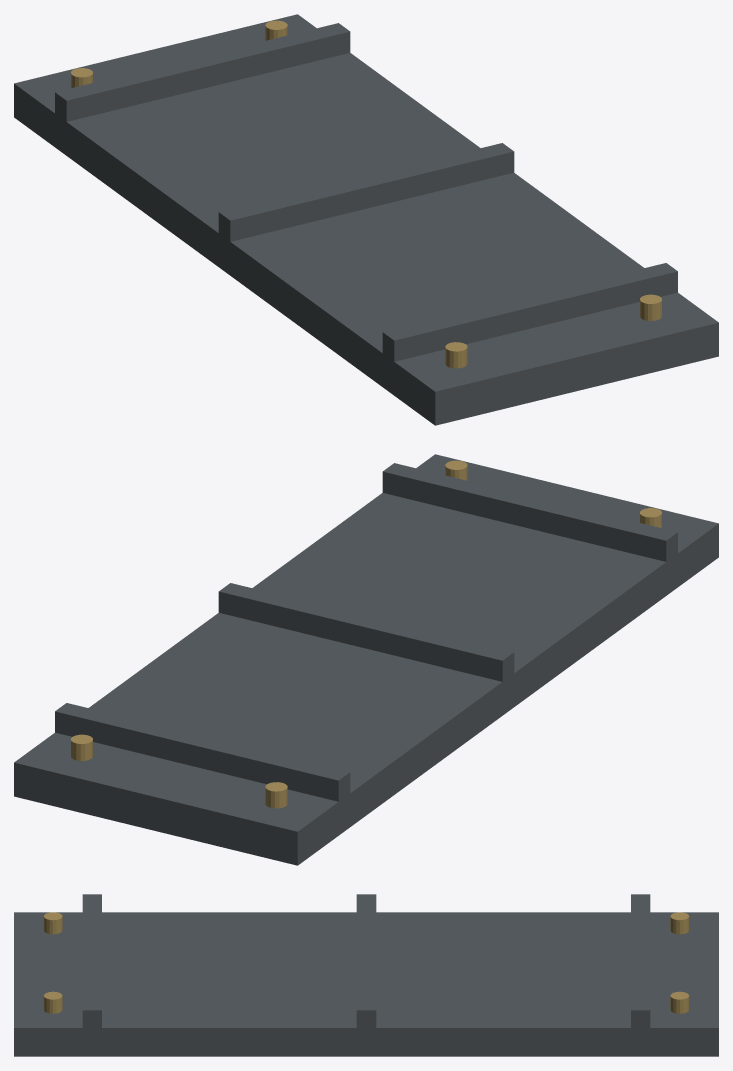
Rendered from SM_Module_HullReinforcement.glb.
3 views of the same model, one above another, from view 1: azimuth 30°, elevation 25°; view 2: azimuth 150°, elevation 25°; view 3: azimuth 270°, elevation 25° (orthographic). The views are drawn at different scales.
Visible parts, largest first — view 1: SM_Module_HullReinforcement; view 2: SM_Module_HullReinforcement; view 3: SM_Module_HullReinforcement.
Part boxes in pixels (x1,y1,x2,y2): SM_Module_HullReinforcement: [14, 14, 718, 425]; SM_Module_HullReinforcement: [14, 454, 718, 865]; SM_Module_HullReinforcement: [14, 894, 718, 1056].
Size of the model in its own units: 0.35 by 0.065 by 0.9.
